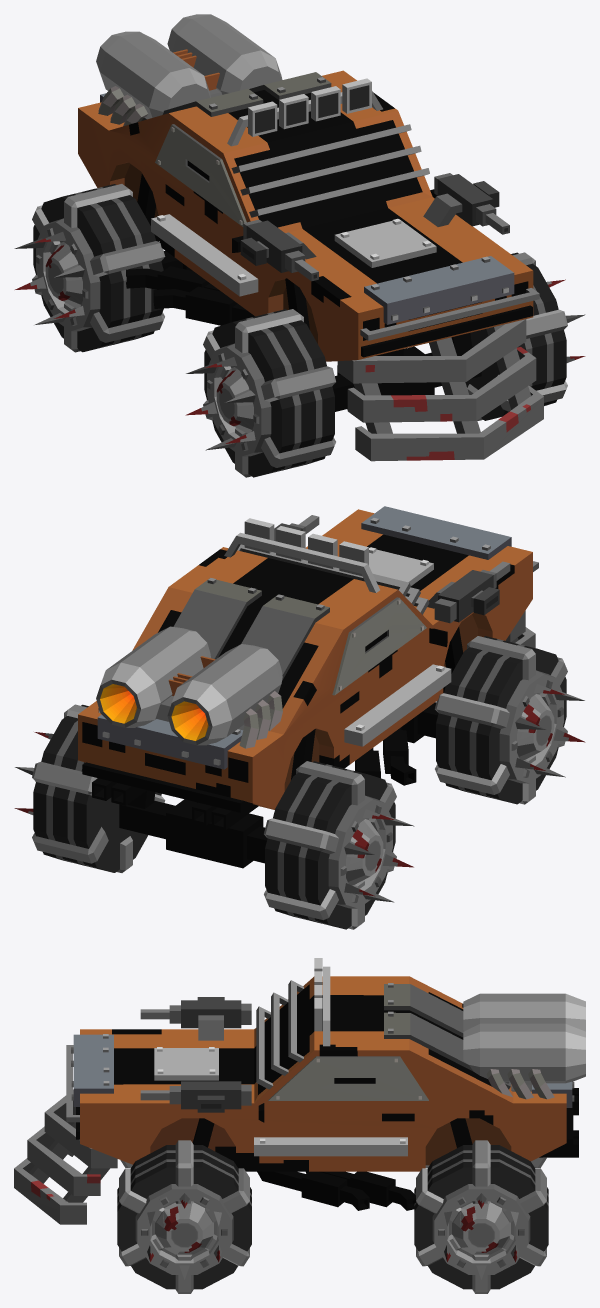
Rendered from 06_SA_Veh_MonsterTruck.glb.
3 renders of one model, top to bottom at view 1: azimuth 30°, elevation 25°; view 2: azimuth 150°, elevation 25°; view 3: azimuth 270°, elevation 25°, orthographic. The views are drawn at different scales.
Parts seen in each view (by area): view 1: Body, armor_5, Nitro, Wheel_B_3gr (×3), Wheel_B_1gr (×2), SA_Veh_MonsterTruck_Wheel_FR, armor_1, SA_Veh_MonsterTruck_Wheel_BR, armor_2_part_A 5, armor_2_part_B 4, armor_3_part_B_R 4, SA_Veh_MonsterTruck_Wheel_FL (+6 smaller); view 2: Body, Nitro, Wheel_B_3gr (×3), Wheel_B_1gr (×2), SA_Veh_MonsterTruck_Wheel_BR, SA_Veh_MonsterTruck_Wheel_FR, armor_4_part_B 3, SA_Veh_MonsterTruck_Wheel_BL, armor_2_part_A 5, armor_1, armor_3_part_B_R 4, armor_4_part_C 4 (+6 smaller); view 3: Body, Wheel_B_1gr (×2), Nitro, Wheel_B_3gr (×2), SA_Veh_MonsterTruck_Wheel_FL, SA_Veh_MonsterTruck_Wheel_BL, armor_5, armor_3_part_B_L 4, armor_4_part_B 3, armor_1, armor_4_part_A_R 2, gun_right (+5 smaller).
Part boxes in pixels (box(x1,y1,x2,y2)): Body: box(78, 70, 533, 411); armor_5: box(337, 319, 543, 461); Nitro: box(96, 14, 282, 126); Wheel_B_3gr (×3): box(32, 184, 567, 477); Wheel_B_1gr (×2): box(36, 218, 271, 456); SA_Veh_MonsterTruck_Wheel_FR: box(204, 309, 334, 477); armor_1: box(360, 256, 539, 340); SA_Veh_MonsterTruck_Wheel_BR: box(33, 184, 163, 352); armor_2_part_A 5: box(227, 78, 382, 146); armor_2_part_B 4: box(231, 124, 429, 217); armor_3_part_B_R 4: box(155, 124, 246, 226); SA_Veh_MonsterTruck_Wheel_FL: box(465, 252, 566, 420); Body: box(78, 509, 532, 868); Nitro: box(96, 626, 282, 748); Wheel_B_3gr (×3): box(32, 636, 567, 929); Wheel_B_1gr (×2): box(328, 670, 563, 908); SA_Veh_MonsterTruck_Wheel_BR: box(265, 761, 395, 929); SA_Veh_MonsterTruck_Wheel_FR: box(436, 636, 566, 804); armor_4_part_B 3: box(173, 578, 329, 680); SA_Veh_MonsterTruck_Wheel_BL: box(33, 704, 161, 872); armor_2_part_A 5: box(224, 518, 379, 592); armor_1: box(361, 506, 538, 571); armor_3_part_B_R 4: box(332, 597, 426, 695); armor_4_part_C 4: box(97, 714, 243, 769); Body: box(76, 976, 578, 1210); Wheel_B_1gr (×2): box(135, 1184, 530, 1274); Nitro: box(463, 993, 585, 1099); Wheel_B_3gr (×2): box(119, 1140, 546, 1293); SA_Veh_MonsterTruck_Wheel_FL: box(117, 1145, 251, 1289); SA_Veh_MonsterTruck_Wheel_BL: box(414, 1145, 548, 1289); armor_5: box(14, 1089, 117, 1224); armor_3_part_B_L 4: box(268, 1056, 428, 1100); armor_4_part_B 3: box(384, 983, 510, 1089); armor_1: box(66, 1034, 113, 1122); armor_4_part_A_R 2: box(254, 1137, 407, 1156); gun_right: box(140, 997, 251, 1040).
Size of what is drawn, in the model's own units: 5.03 by 3.84 by 7.94.
1 material, 1 textured.
